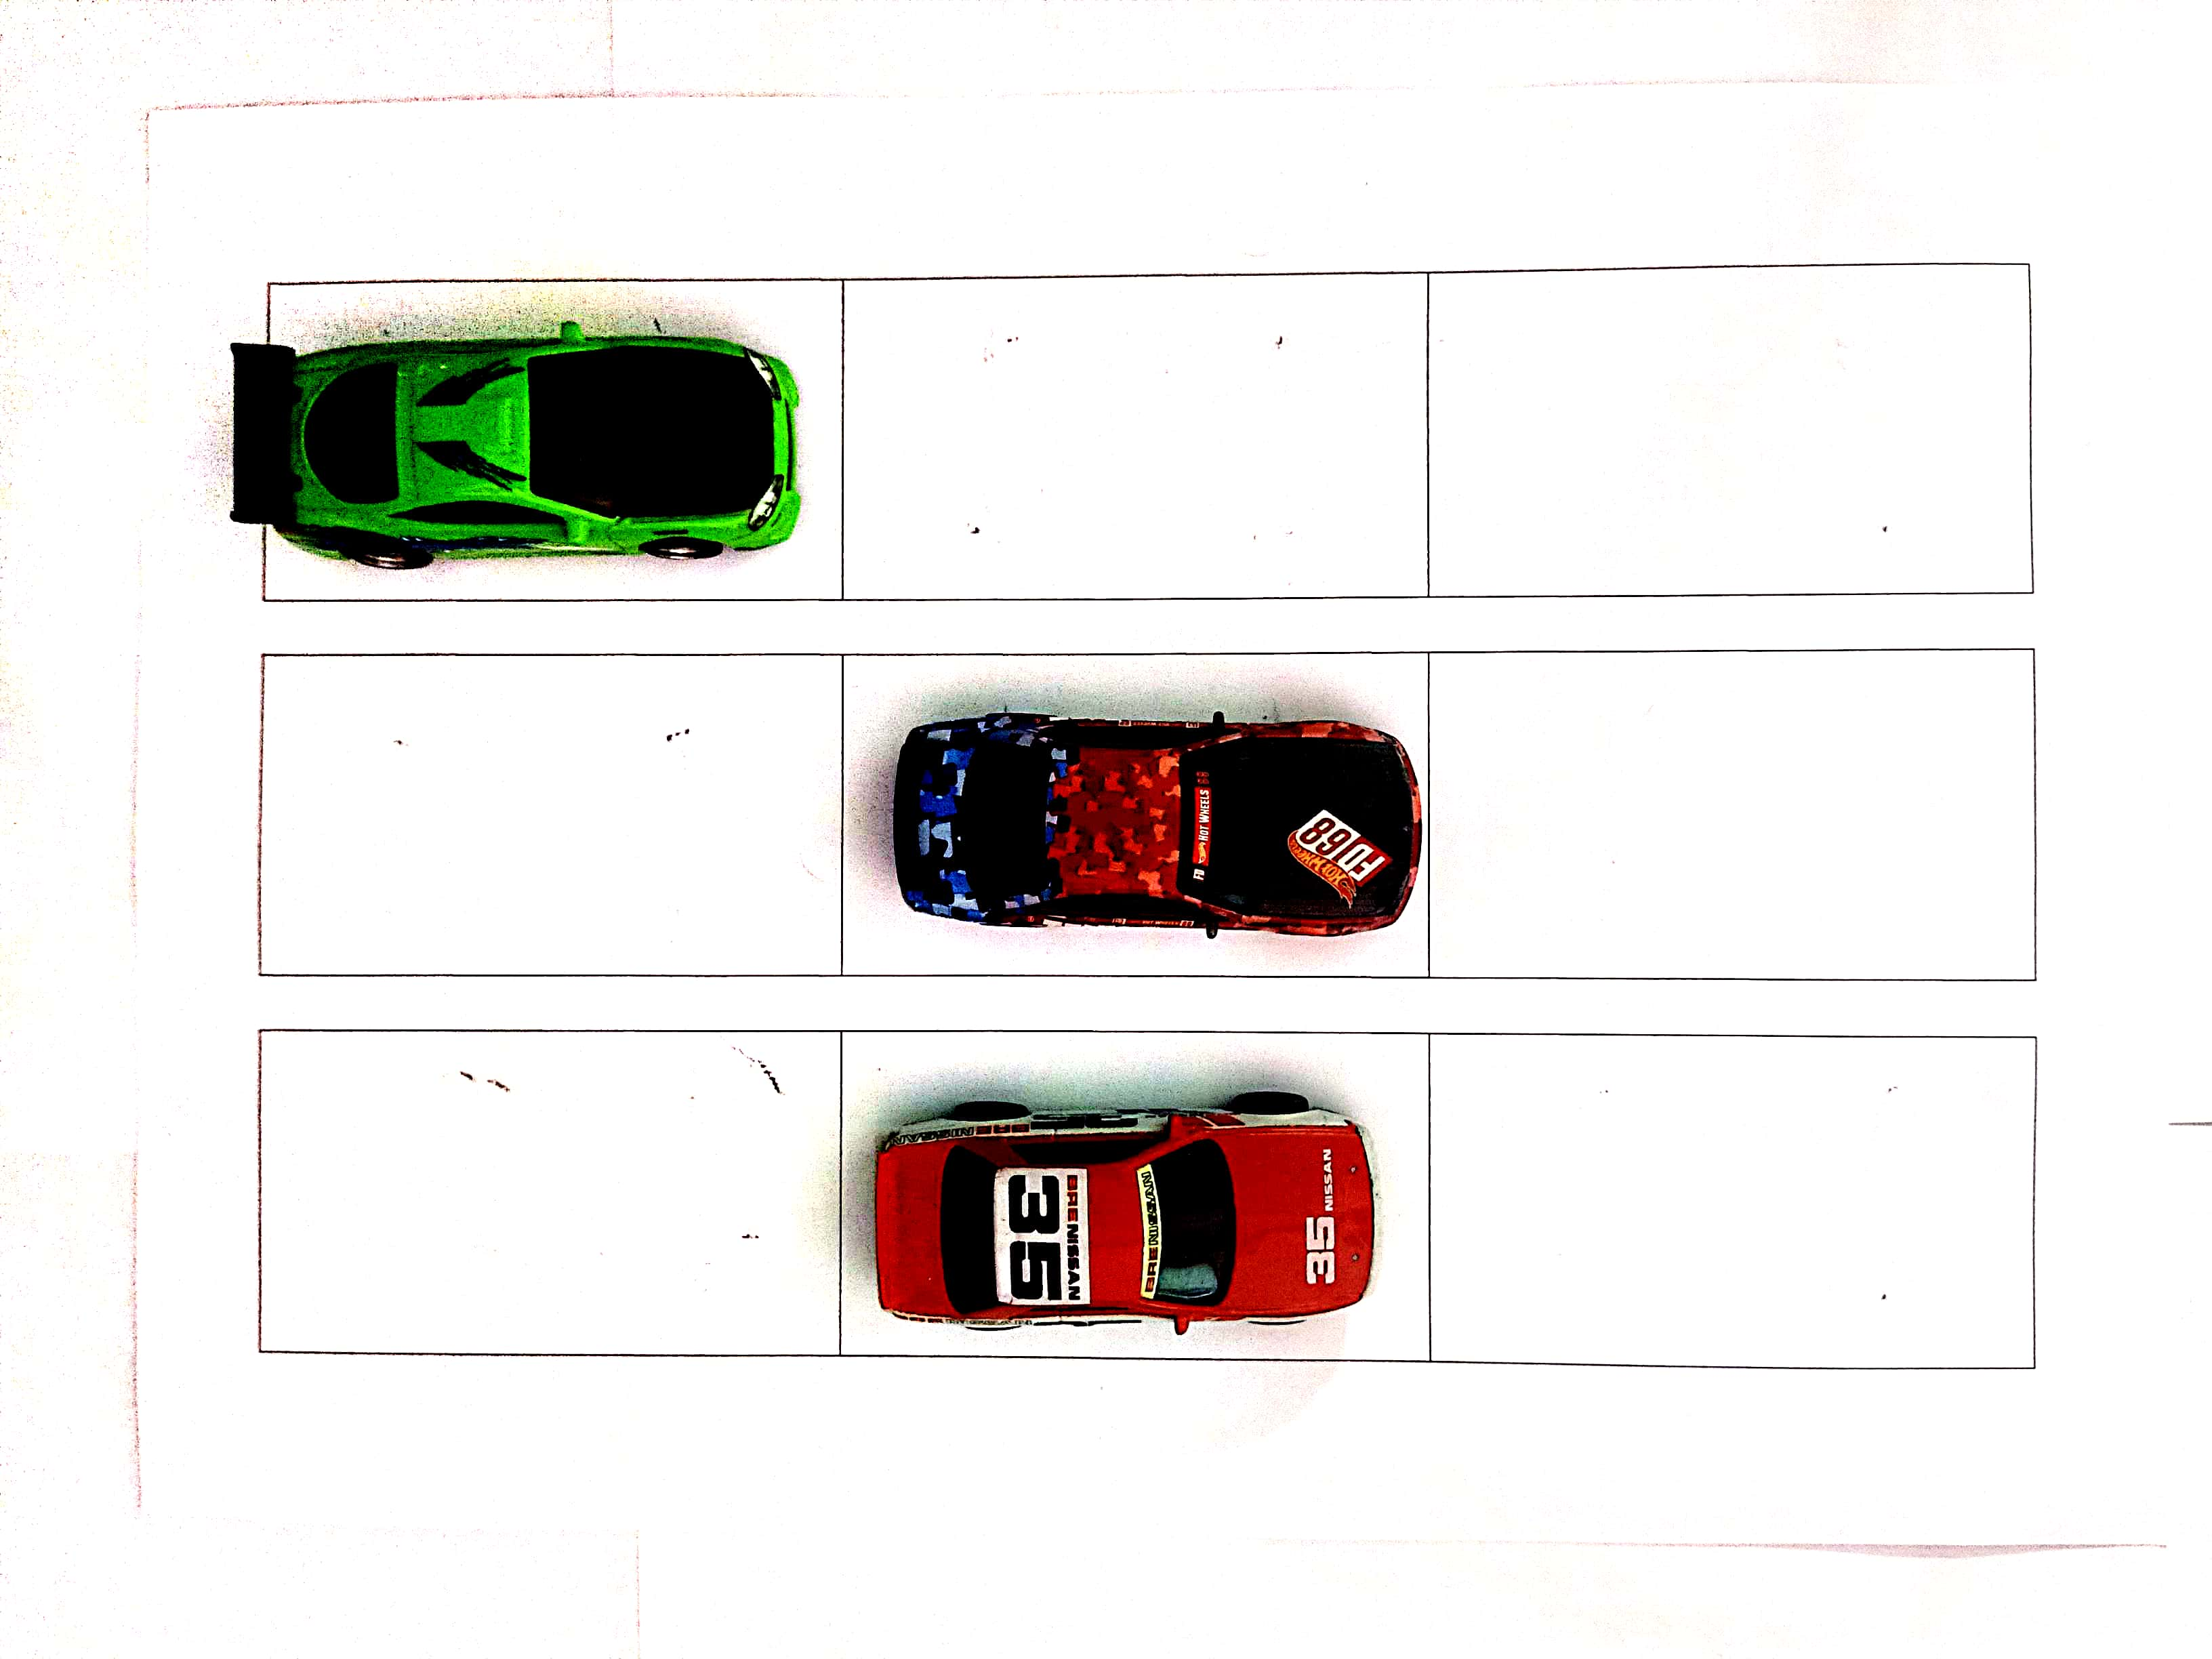Busy: (843, 1032, 1433, 1358), (848, 657, 1428, 972), (273, 279, 836, 593)
Free: (1432, 263, 2033, 594), (1432, 650, 2029, 979), (1432, 1040, 2026, 1358), (261, 650, 836, 976), (840, 272, 1420, 593), (270, 1037, 836, 1354)
